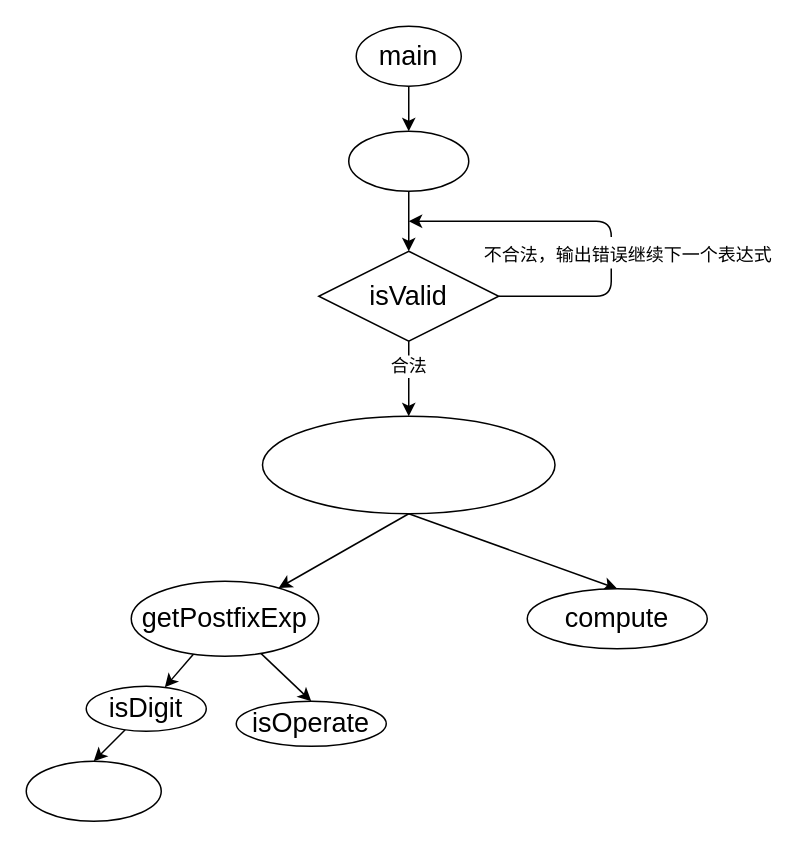
Image size: 797x848. Some labels were removed from this diagram. The box of each missing label's shape, as (x1, y1, x2, y2) in pixels:
readFile: (347, 130, 469, 191)
readNum: (25, 760, 161, 821)
初始化 ReversePolishExp: (261, 415, 555, 514)
